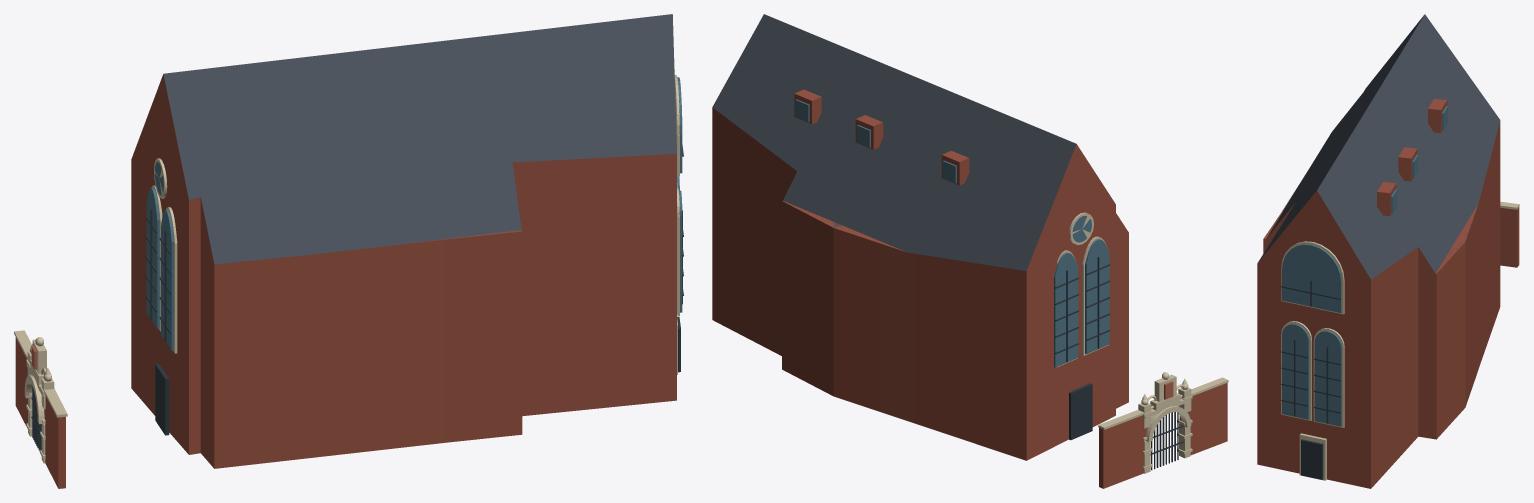
Rendered from agnietenkapel.glb.
3 renders of one model, left to right at view 1: azimuth 30°, elevation 25°; view 2: azimuth 150°, elevation 25°; view 3: azimuth 270°, elevation 25°, orthographic. The views are drawn at different scales.
Visible parts, largest first — view 1: agnietenkapel; view 2: agnietenkapel; view 3: agnietenkapel.
Part boxes in pixels (x1=…): agnietenkapel: x1=14, y1=14, x2=683, y2=488; agnietenkapel: x1=712, y1=14, x2=1228, y2=488; agnietenkapel: x1=1257, y1=14, x2=1519, y2=488.
Size of the model in its own units: 34.31 by 18.7 by 15.48.
